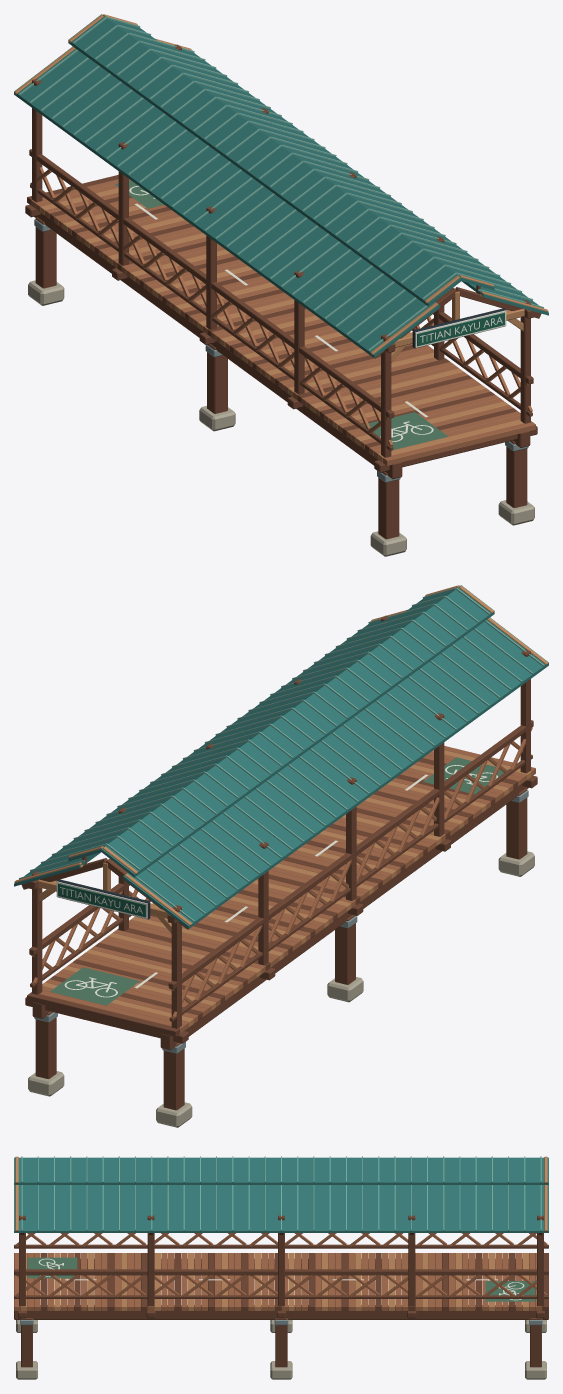
3 views of the same model, one above another, from view 1: azimuth 30°, elevation 25°; view 2: azimuth 150°, elevation 25°; view 3: azimuth 270°, elevation 25° (orthographic). The views are drawn at different scales.
Visible parts, largest first — view 1: Jack roof, Slatted riding deck, Raised roof seams, Rails and eave plates, Veranda uprights, Jetty posts, Cross lattice, Longitudinal girders, Concrete pile shoes, Cycle bridge name, Cycle lane medallions, Timber tie beams (+2 smaller); view 2: Jack roof, Slatted riding deck, Raised roof seams, Rails and eave plates, Veranda uprights, Cross lattice, Jetty posts, Longitudinal girders, Cycle lane medallions, Concrete pile shoes, Cycle bridge name, Timber tie beams (+2 smaller); view 3: Jack roof, Slatted riding deck, Rails and eave plates, Cross lattice, Longitudinal girders, Raised roof seams, Veranda uprights, Jetty posts, Cycle lane medallions, Concrete pile shoes, Gable bargeboards, Timber tie beams.
Part boxes in pixels (x1=…): Jack roof: x1=14, y1=14, x2=548, y2=358; Slatted riding deck: x1=27, y1=175, x2=535, y2=465; Raised roof seams: x1=19, y1=16, x2=543, y2=350; Rails and eave plates: x1=29, y1=149, x2=534, y2=450; Veranda uprights: x1=32, y1=44, x2=530, y2=457; Jetty posts: x1=34, y1=217, x2=528, y2=539; Cross lattice: x1=30, y1=167, x2=532, y2=445; Longitudinal girders: x1=34, y1=213, x2=530, y2=479; Concrete pile shoes: x1=28, y1=280, x2=534, y2=556; Cycle bridge name: x1=412, y1=308, x2=506, y2=348; Cycle lane medallions: x1=115, y1=180, x2=447, y2=449; Timber tie beams: x1=25, y1=204, x2=537, y2=472; Jack roof: x1=14, y1=585, x2=548, y2=929; Slatted riding deck: x1=27, y1=746, x2=535, y2=1036; Raised roof seams: x1=19, y1=587, x2=543, y2=921; Rails and eave plates: x1=28, y1=720, x2=533, y2=1021; Veranda uprights: x1=32, y1=615, x2=530, y2=1028; Cross lattice: x1=31, y1=727, x2=532, y2=1018; Jetty posts: x1=34, y1=788, x2=528, y2=1110; Longitudinal girders: x1=32, y1=784, x2=528, y2=1050; Cycle lane medallions: x1=50, y1=757, x2=507, y2=1005; Concrete pile shoes: x1=28, y1=851, x2=534, y2=1127; Cycle bridge name: x1=56, y1=879, x2=150, y2=919; Timber tie beams: x1=25, y1=775, x2=537, y2=1043; Jack roof: x1=14, y1=1157, x2=548, y2=1232; Slatted riding deck: x1=14, y1=1253, x2=548, y2=1310; Rails and eave plates: x1=14, y1=1244, x2=548, y2=1298; Cross lattice: x1=15, y1=1233, x2=547, y2=1297; Longitudinal girders: x1=14, y1=1259, x2=548, y2=1319; Raised roof seams: x1=21, y1=1156, x2=541, y2=1230; Veranda uprights: x1=19, y1=1215, x2=543, y2=1306; Jetty posts: x1=20, y1=1275, x2=542, y2=1367; Cycle lane medallions: x1=27, y1=1257, x2=535, y2=1301; Concrete pile shoes: x1=16, y1=1320, x2=546, y2=1379; Gable bargeboards: x1=15, y1=1156, x2=547, y2=1231; Timber tie beams: x1=18, y1=1309, x2=544, y2=1318.
Bounding box in the file's own units: 4.52 × 6.46 × 16.
